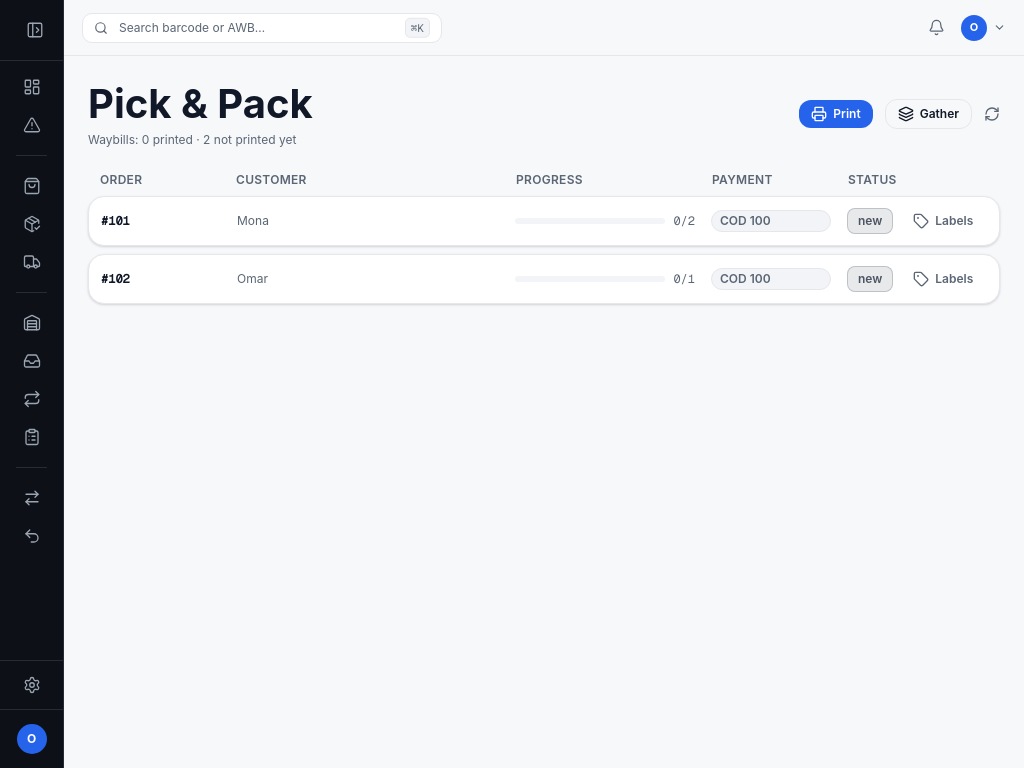
Scenario: B — one Print in Pick & Pack › pp2b — "Same orders as the last print": a reprint of the last waybill print + labels for scope last
Click the button "Print" at point(836, 114), box [799, 100, 873, 128]
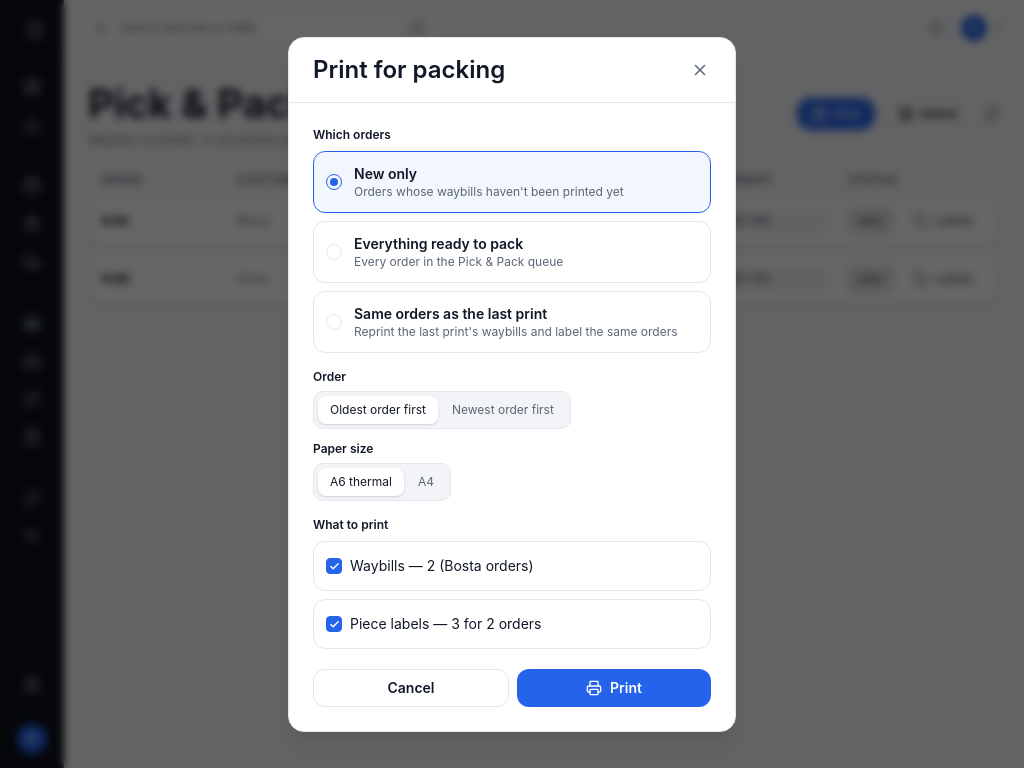
Click the text "Same orders as the last print" at point(451, 313), box [354, 304, 547, 322]
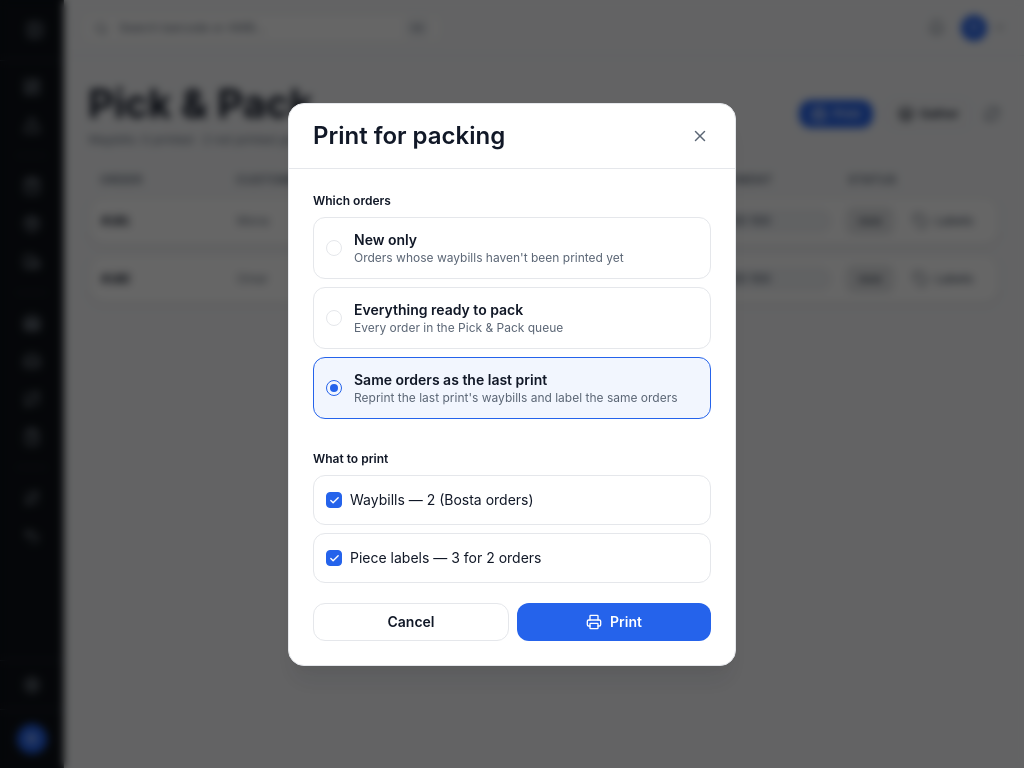
Click the button "Print" at point(614, 622), box [517, 602, 711, 640]
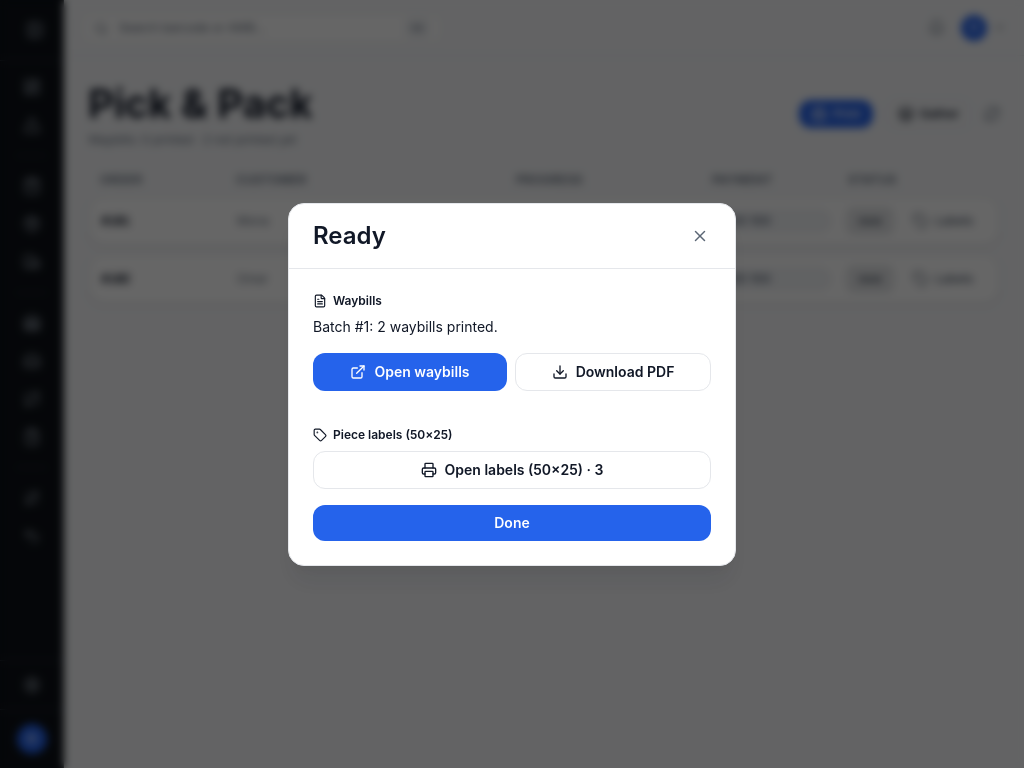
Check: the element with test id "print-ready" is shown, box [313, 292, 711, 540]
